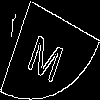M: (25, 25, 68, 84)
